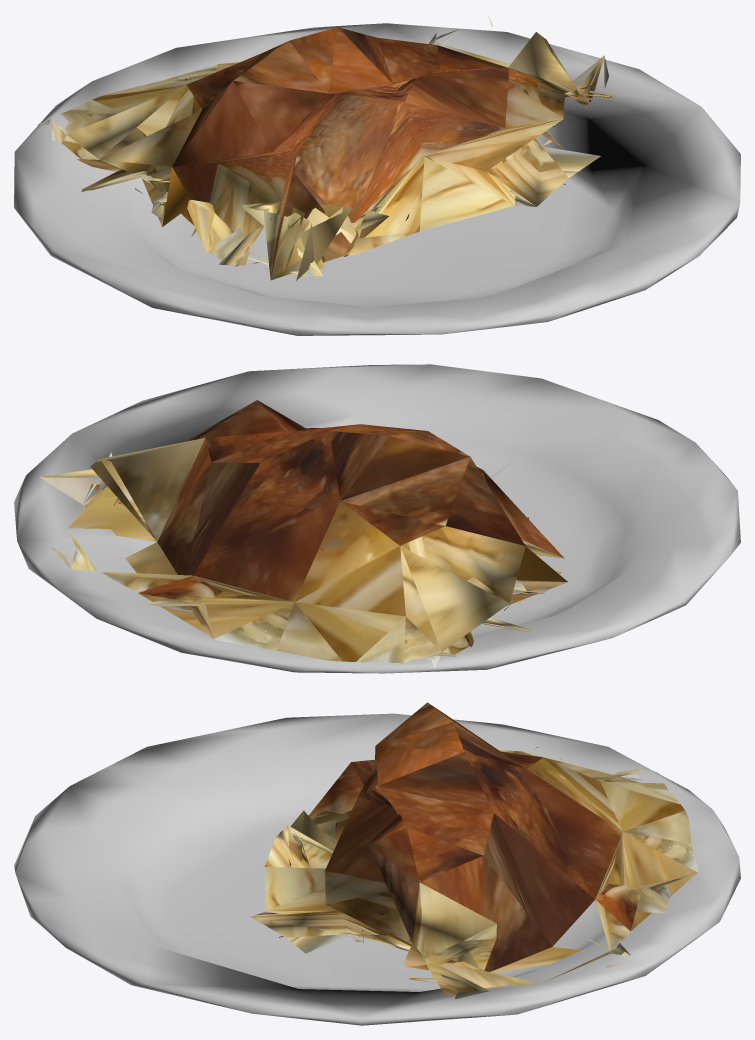
Rendered from plateWithFood1Eaten1.fbx.
The picture shows the model from 3 angles, top to bottom: view 1: azimuth 30°, elevation 25°; view 2: azimuth 150°, elevation 25°; view 3: azimuth 270°, elevation 25°; orthographic projection.
Visible parts, largest first — view 1: plate, Dish_Circle; view 2: plate, Dish_Circle; view 3: plate, Dish_Circle.
Part boxes in pixels (x1,y1,x2,y2): plate: (14,23,740,335); Dish_Circle: (37,15,620,280); plate: (14,364,740,673); Dish_Circle: (26,400,567,669); plate: (14,713,740,1025); Dish_Circle: (251,702,698,998).
Bounding box in the file's own units: 116 × 28.9 × 116.
